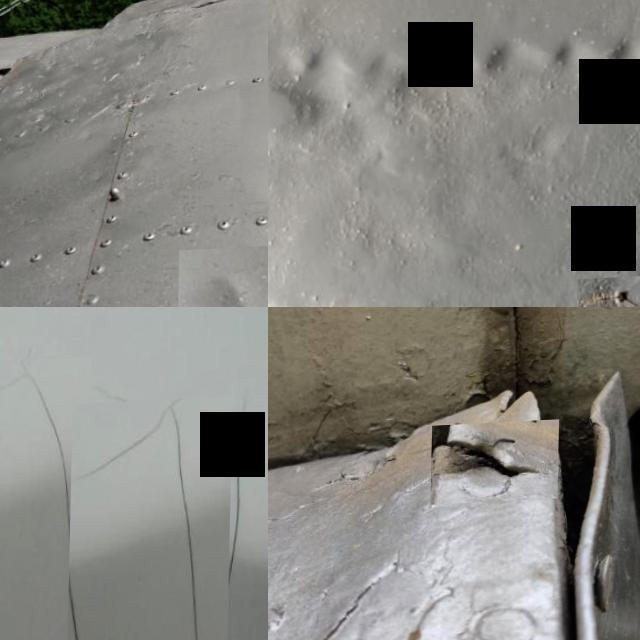Crack: (73, 402, 203, 640), (24, 362, 81, 640), (432, 423, 561, 508), (216, 395, 249, 640), (578, 279, 640, 307)
Dent: (179, 249, 268, 307)
